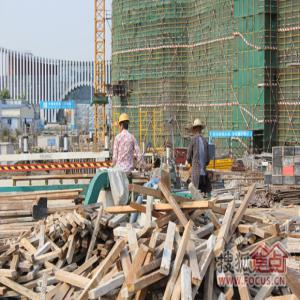white: (193, 117, 204, 138)
yellow: (119, 114, 131, 135)
